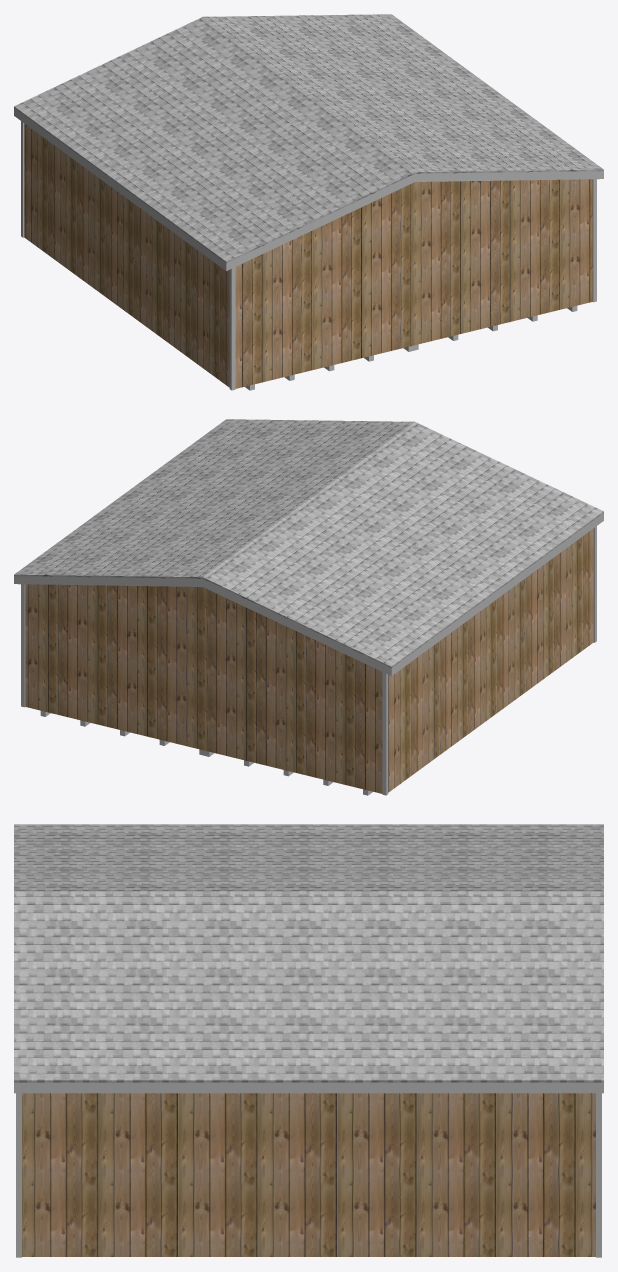
File: Double Garage 3-12 PITCH ROOF_24x24.obj
3 renders of one model, top to bottom at view 1: azimuth 30°, elevation 25°; view 2: azimuth 150°, elevation 25°; view 3: azimuth 270°, elevation 25°, orthographic. The views are drawn at different scales.
Parts seen in each view (by area): view 1: Roof, Shed, Sides, Trim; view 2: Roof, Shed, Sides, Trim; view 3: Roof, Shed, Sides, Trim.
Part boxes in pixels (bbox=[...]): Roof: bbox=[14, 14, 603, 262]; Shed: bbox=[24, 123, 592, 388]; Sides: bbox=[14, 108, 603, 270]; Trim: bbox=[21, 121, 596, 390]; Roof: bbox=[14, 419, 603, 667]; Shed: bbox=[25, 528, 593, 793]; Sides: bbox=[14, 513, 603, 675]; Trim: bbox=[21, 526, 596, 795]; Roof: bbox=[14, 824, 603, 1082]; Shed: bbox=[22, 1093, 595, 1256]; Sides: bbox=[14, 1082, 603, 1093]; Trim: bbox=[16, 1093, 601, 1257].
Size of the model in its own units: 7.62 by 3.46 by 7.42.
